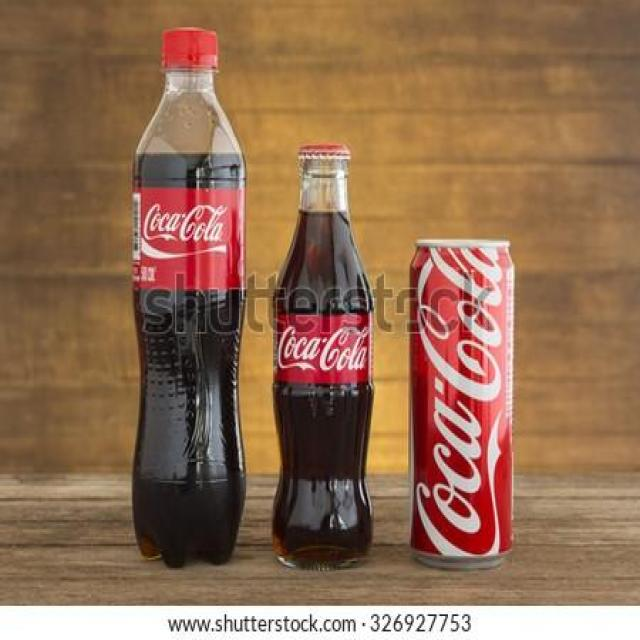coca-cola: (124, 19, 252, 575), (263, 139, 381, 575), (398, 229, 519, 563)
